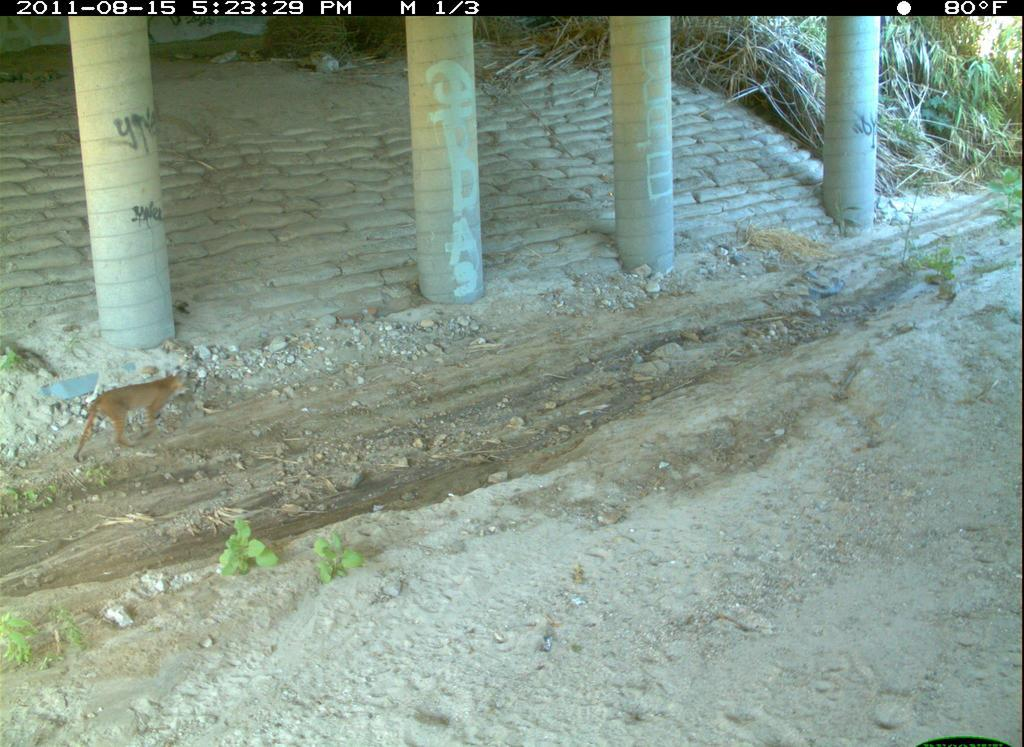bobcat: (134, 727, 395, 747)
